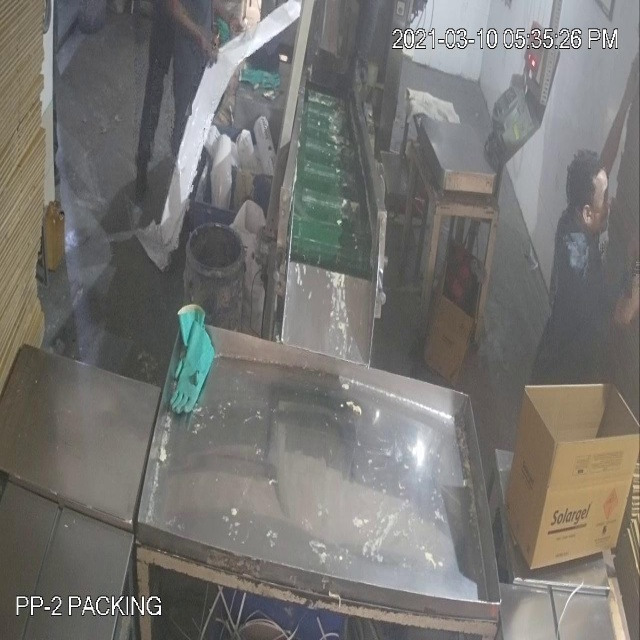Sin_guantes: (581, 51, 640, 220), (151, 1, 230, 78)
